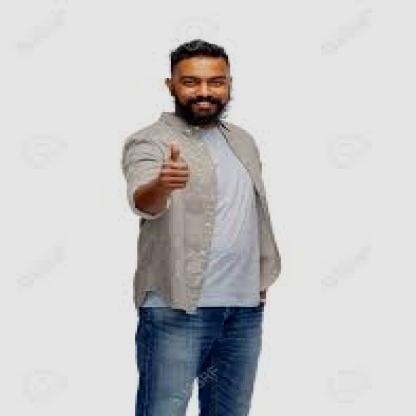Thumbs up: (156, 144, 197, 193)
